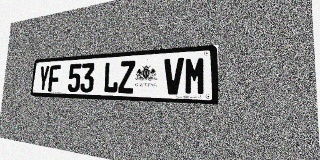3: (80, 63, 95, 93)
5: (67, 64, 82, 92)
F: (48, 65, 61, 92)
L: (103, 61, 119, 93)
M: (184, 56, 206, 95)
V: (163, 58, 184, 95)
Y: (38, 65, 50, 92)
Z: (118, 60, 135, 94)
